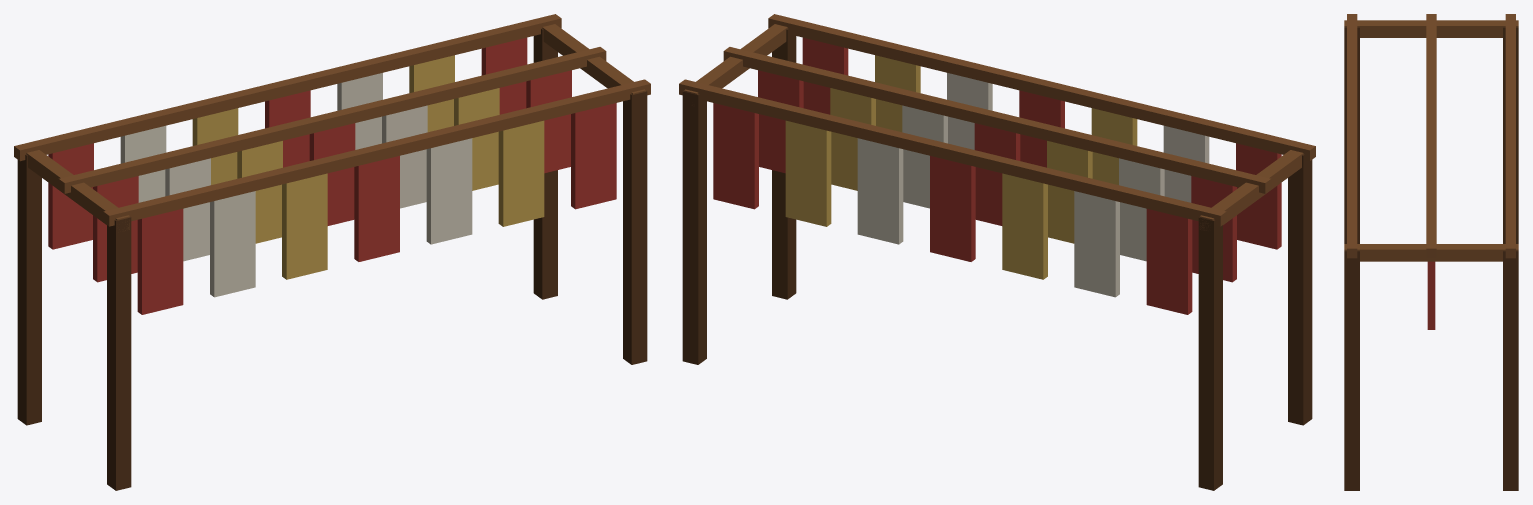
File: drying_rack_broken.glb
3 views of the same model, side by side, from view 1: azimuth 30°, elevation 25°; view 2: azimuth 150°, elevation 25°; view 3: azimuth 270°, elevation 25° (orthographic). The views are drawn at different scales.
Parts seen in each view (by area): view 1: drying_rack_piece1, drying_rack_piece3, drying_rack_piece4, drying_rack_piece6, drying_rack_piece5, drying_rack_piece2, drying_rack_piece0; view 2: drying_rack_piece1, drying_rack_piece5, drying_rack_piece2, drying_rack_piece3, drying_rack_piece4, drying_rack_piece6, drying_rack_piece0; view 3: drying_rack_piece6, drying_rack_piece2, drying_rack_piece1, drying_rack_piece4, drying_rack_piece5, drying_rack_piece3, drying_rack_piece0.
Part boxes in pixels (<box>): drying_rack_piece1: <box>14,113,280,484</box>; drying_rack_piece3: <box>258,67,517,274</box>; drying_rack_piece4: <box>97,174,308,490</box>; drying_rack_piece6: <box>484,36,650,364</box>; drying_rack_piece5: <box>147,49,411,237</box>; drying_rack_piece2: <box>377,14,571,299</box>; drying_rack_piece0: <box>399,108,544,252</box>; drying_rack_piece1: <box>1022,142,1303,490</box>; drying_rack_piece5: <box>824,105,1119,274</box>; drying_rack_piece2: <box>679,72,929,364</box>; drying_rack_piece3: <box>806,54,1159,203</box>; drying_rack_piece4: <box>1151,108,1315,424</box>; drying_rack_piece6: <box>708,14,888,299</box>; drying_rack_piece0: <box>831,42,974,190</box>; drying_rack_piece6: <box>1344,198,1475,490</box>; drying_rack_piece2: <box>1473,184,1518,490</box>; drying_rack_piece1: <box>1379,14,1518,243</box>; drying_rack_piece4: <box>1344,14,1381,243</box>; drying_rack_piece5: <box>1426,71,1515,185</box>; drying_rack_piece3: <box>1347,81,1436,212</box>; drying_rack_piece0: <box>1347,177,1357,198</box>.
Bounding box in the file's own units: 2.1 × 1.02 × 0.66.
